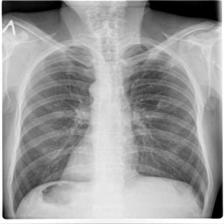tuberculosis: (8, 40, 214, 218)
